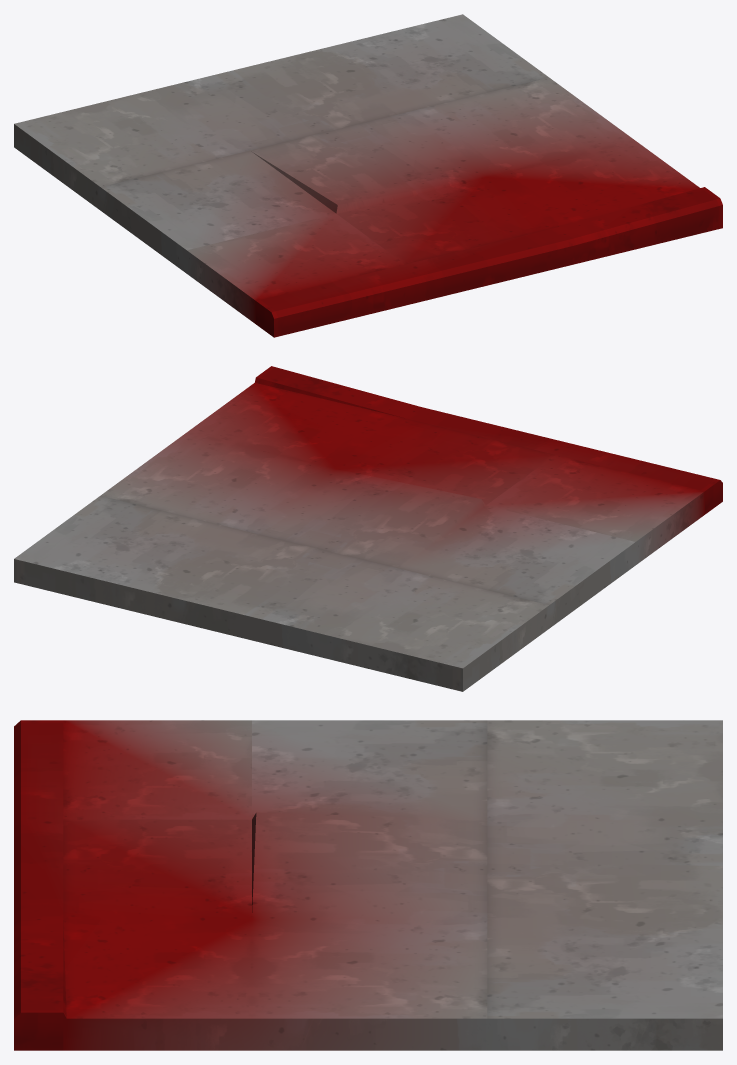
The model's file is Sidewalk_Straight_3m_Broken1.gltf.
The picture shows the model from 3 angles, top to bottom: view 1: azimuth 30°, elevation 25°; view 2: azimuth 150°, elevation 25°; view 3: azimuth 270°, elevation 25°; orthographic projection. The views are drawn at different scales.
Visible parts, largest first — view 1: Sidewalk_Straight_3m_Broken1; view 2: Sidewalk_Straight_3m_Broken1; view 3: Sidewalk_Straight_3m_Broken1.
Part boxes in pixels (x1,y1,x2,y2): Sidewalk_Straight_3m_Broken1: [14, 14, 722, 337]; Sidewalk_Straight_3m_Broken1: [14, 366, 722, 691]; Sidewalk_Straight_3m_Broken1: [14, 720, 722, 1050].
Size of the model in its own units: 3 by 0.1936 by 3.01.
1 material, 1 textured.
